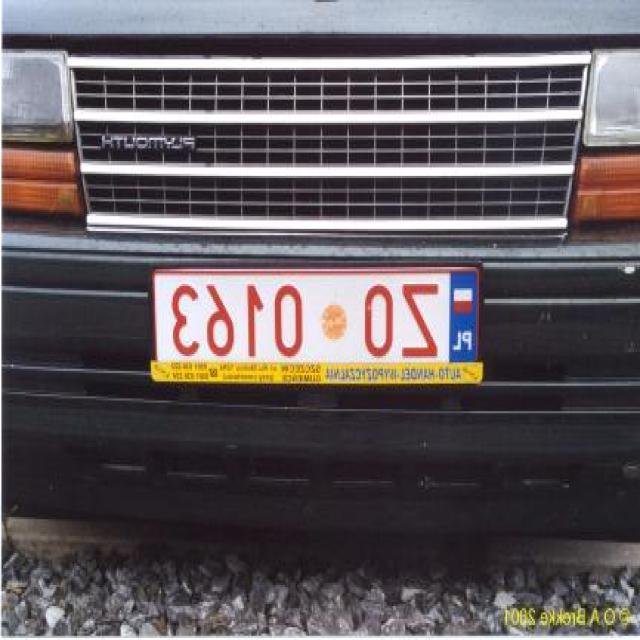pl_license_plate: (157, 269, 480, 360)
